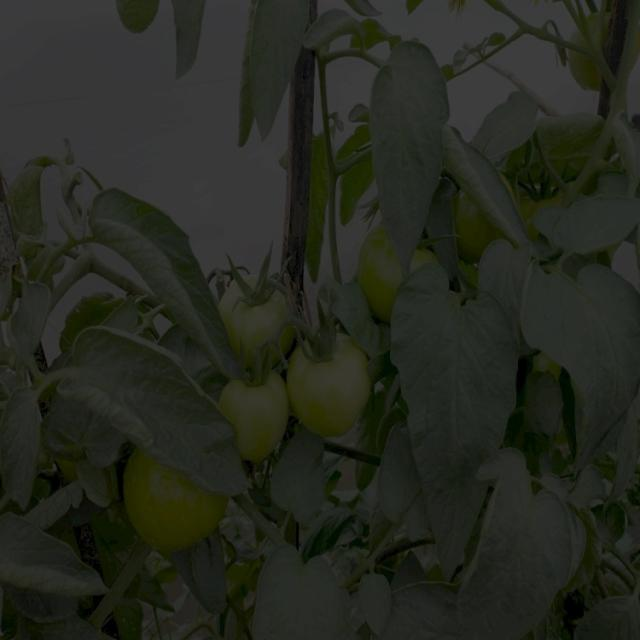tomato: (119, 450, 227, 533), (292, 339, 374, 438), (361, 227, 440, 317), (222, 266, 292, 356), (450, 182, 519, 259), (227, 373, 286, 453), (570, 17, 624, 93)
